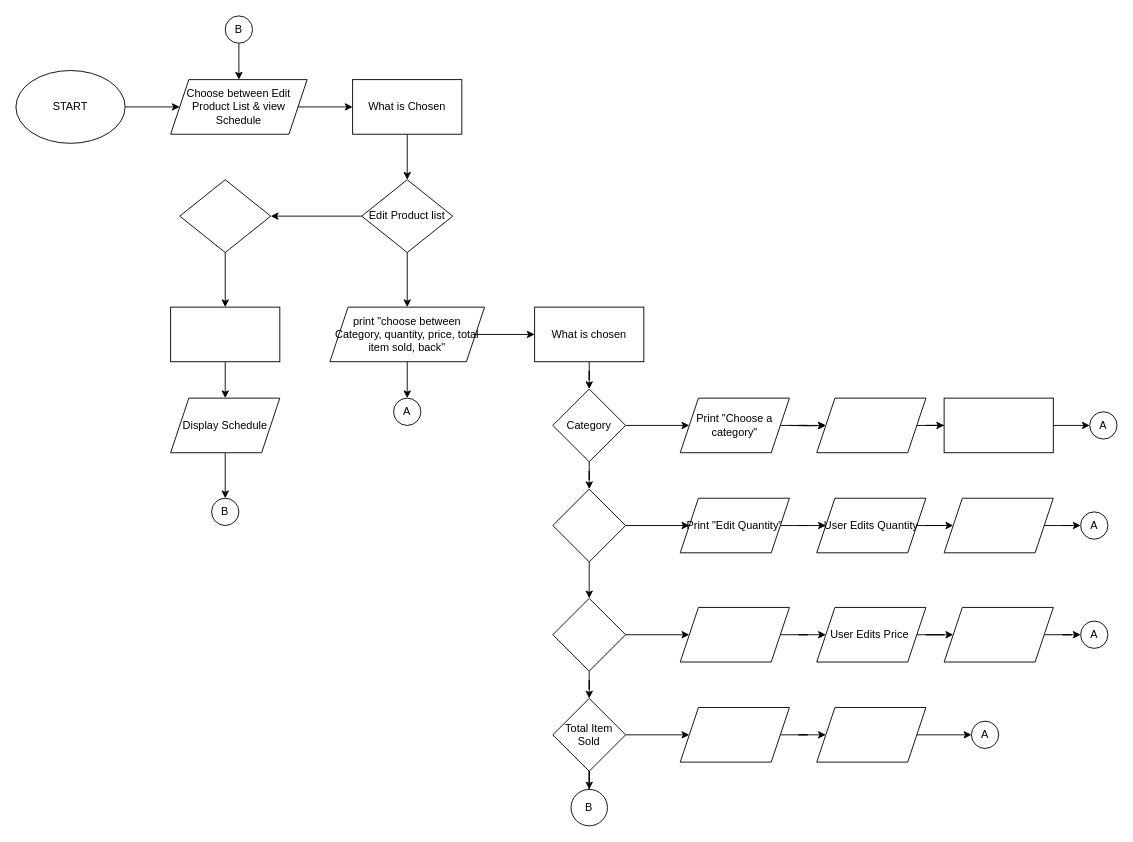
This 1133x842 diagram has some shape labels left out. Each missing label, with the centre of its shape:
Edit category in database: the point at 998,425
Edit Price in database: the point at 998,634
Edit Quantity in database: the point at 998,525
Fetch schedule from Database: the point at 225,334
Price: the point at 589,634
Print "Edit Price": the point at 734,634
Print "Total Item Sold": the point at 734,734
Quantity: the point at 589,525
User chooses a category: the point at 871,425
User sees "Total Item Sold": the point at 871,734
View Schedule: the point at 225,216
